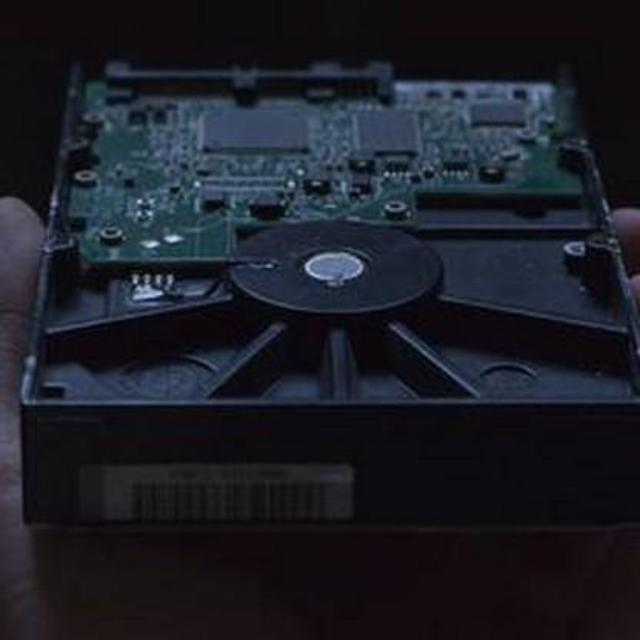DISK: (12, 43, 640, 546)
